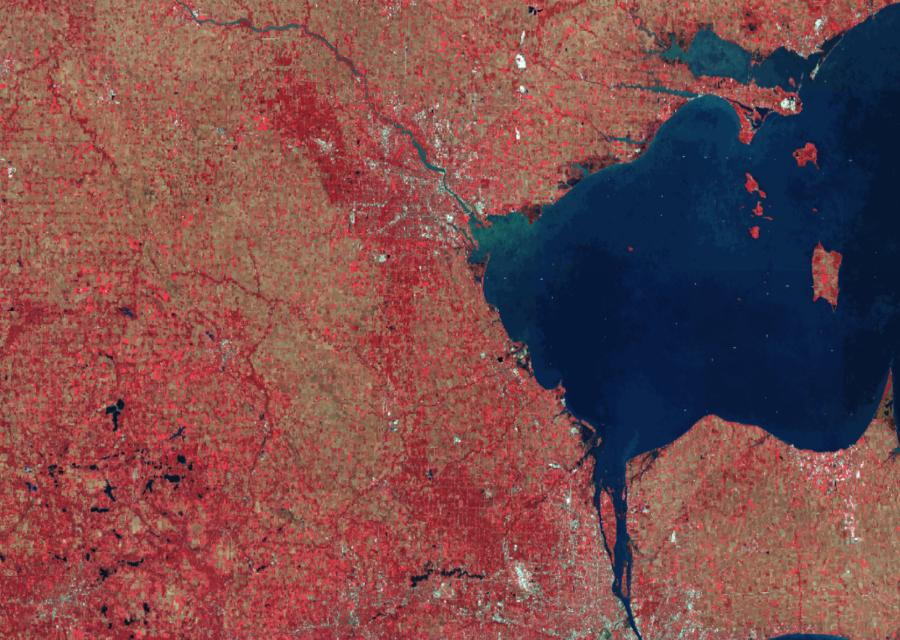Potential Lime Manufacturing Facility: (514, 54, 529, 70)
